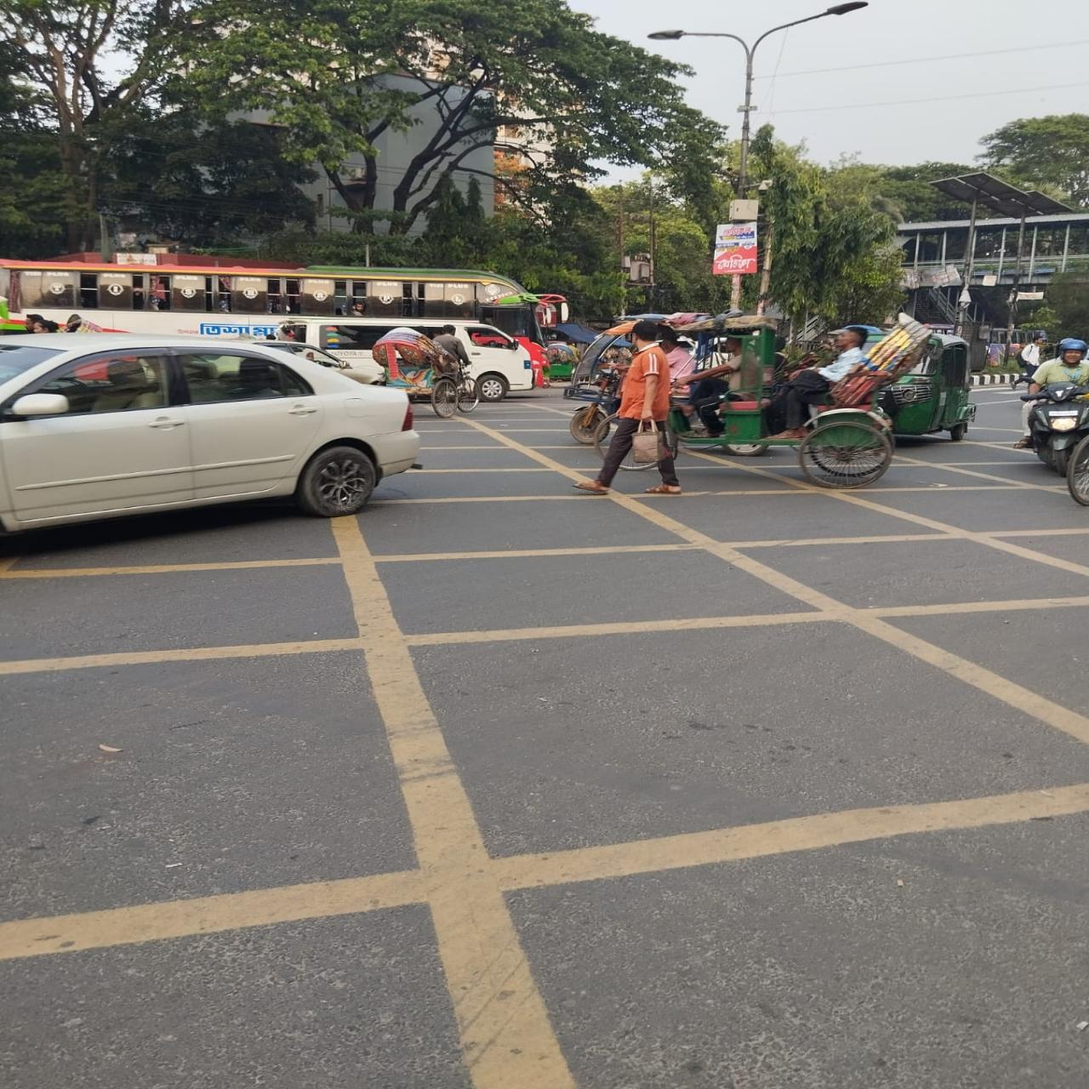person: (573, 320, 686, 495), (1011, 337, 1045, 388)
